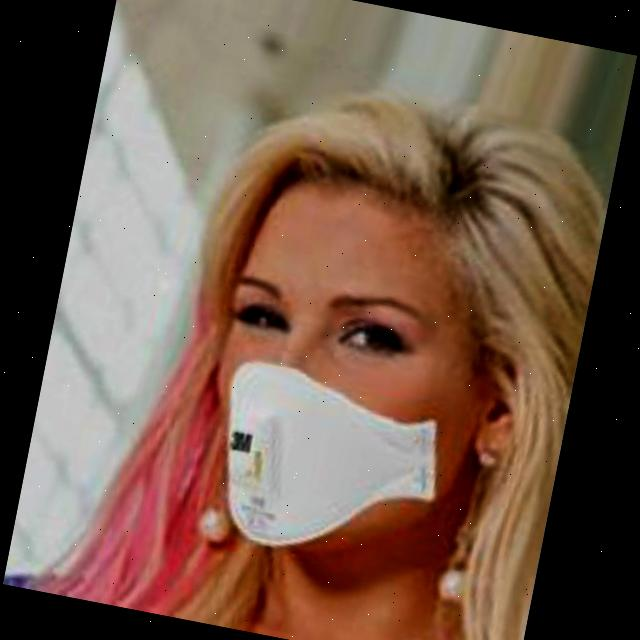suspicion: (164, 120, 556, 594)
